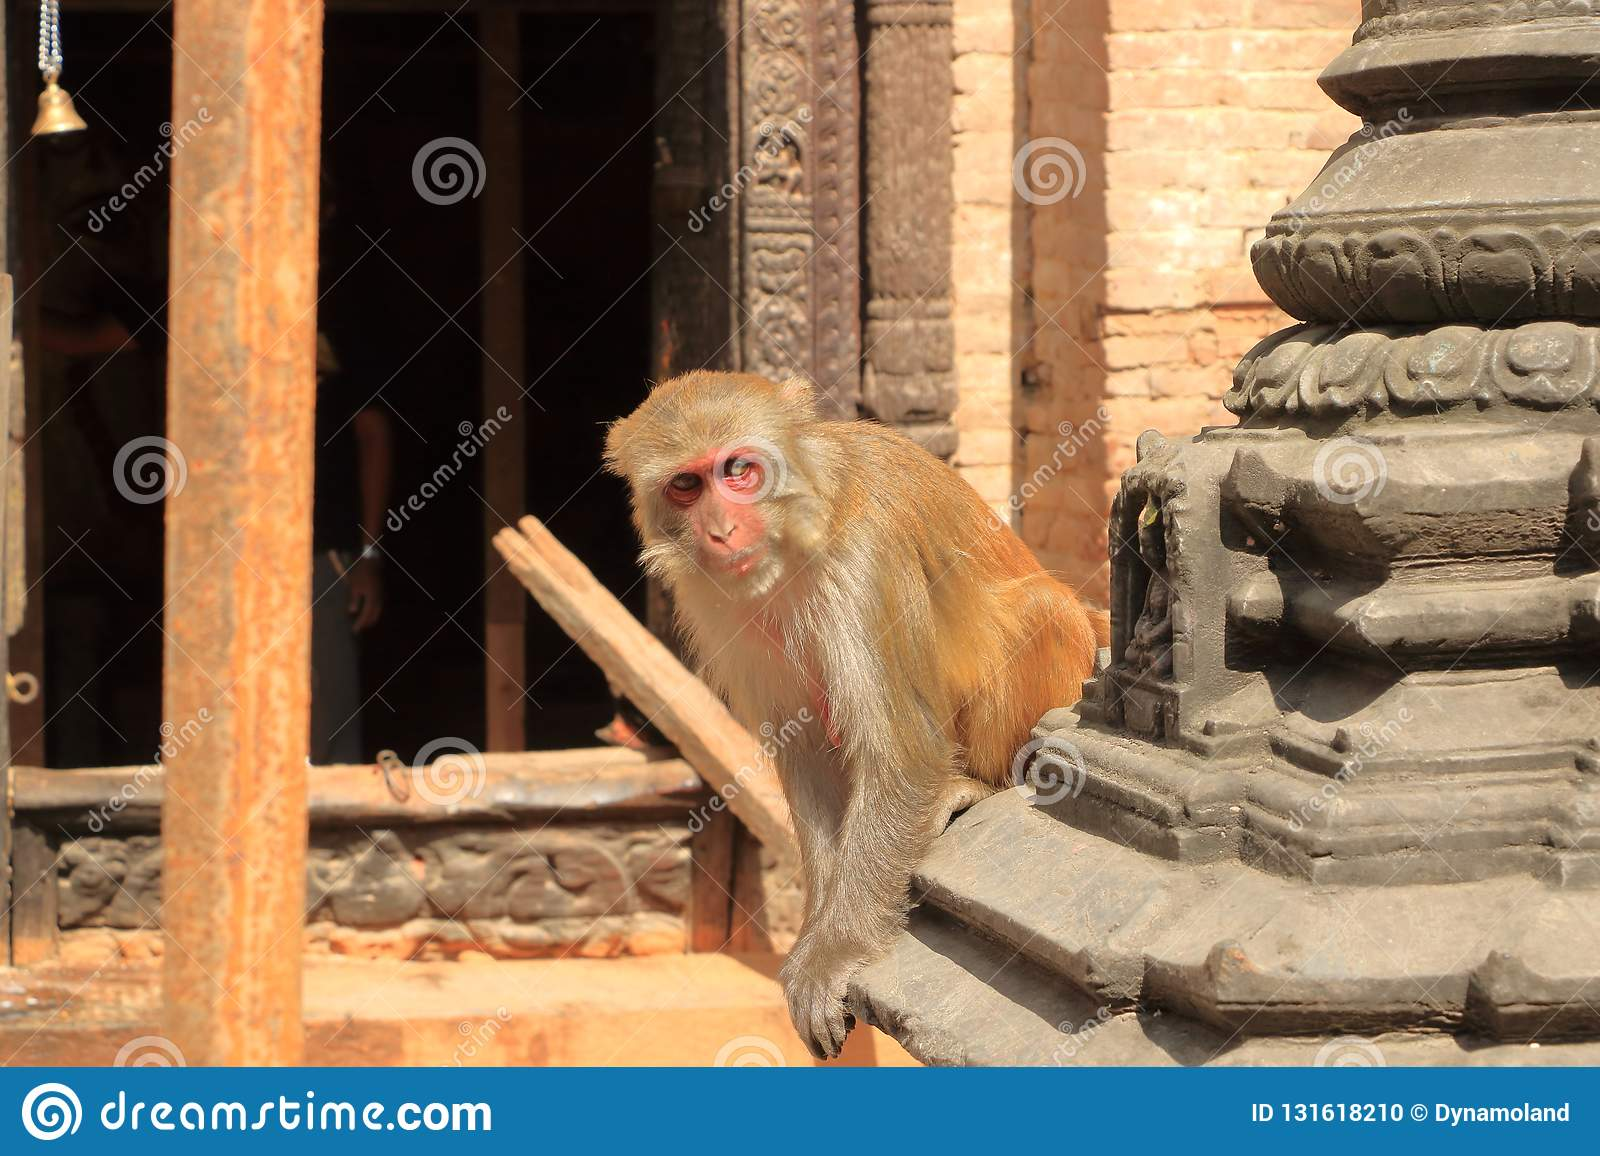monkey: (593, 363, 1101, 1055)
